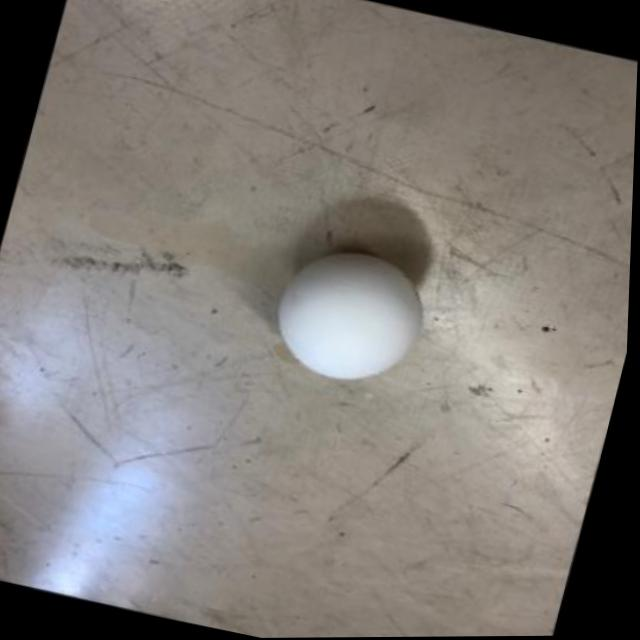egg: (263, 235, 449, 396)
